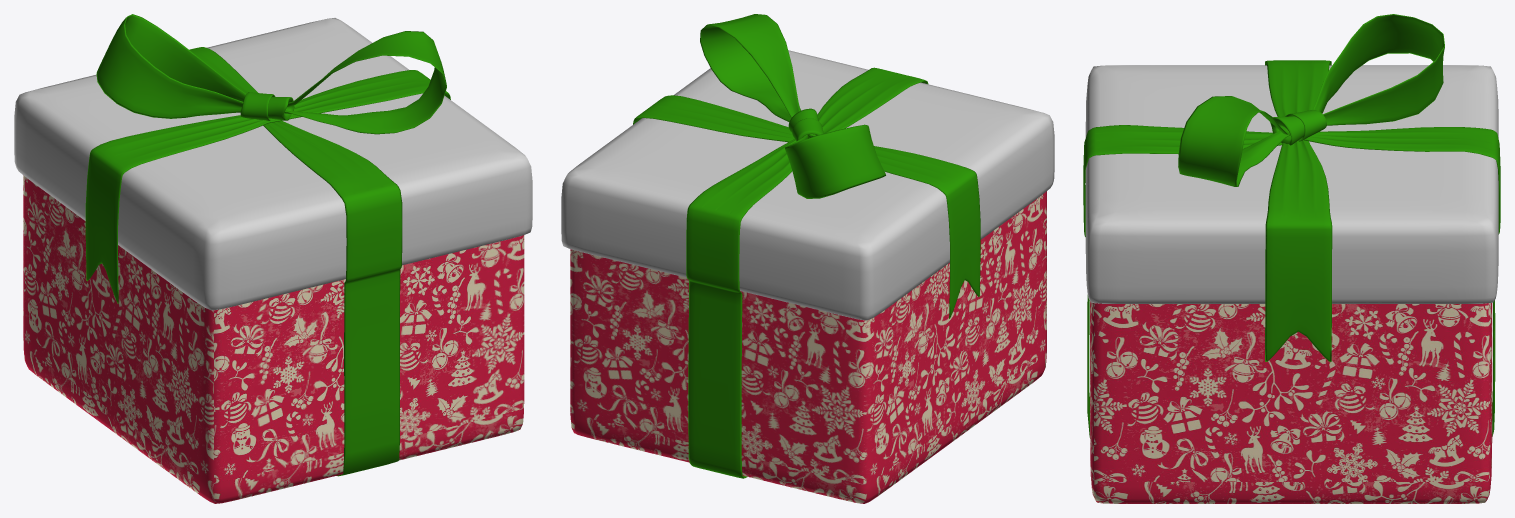
Rendered from Gift1.glb.
3 views of the same model, side by side, from view 1: azimuth 30°, elevation 25°; view 2: azimuth 150°, elevation 25°; view 3: azimuth 270°, elevation 25° (orthographic). The views are drawn at different scales.
Parts seen in each view (by area): view 1: Box001, Box002, Plane001, b003_01 - Default_0, Line002, Line003, Line001; view 2: Box001, Box002, Plane001, b003_01 - Default_0, Line003, Line002; view 3: Box001, Box002, b003_01 - Default_0, Plane001, Line002, Line003, Line001, Object001_01 - Default_0.
Boxes of the visible parts, x1,y1,x2,y2 form: Box001: [23, 175, 524, 503]; Box002: [14, 18, 532, 310]; Plane001: [189, 47, 402, 476]; b003_01 - Default_0: [85, 70, 450, 303]; Line002: [96, 14, 246, 118]; Line003: [284, 31, 446, 134]; Line001: [240, 92, 275, 120]; Box001: [570, 191, 1046, 503]; Box002: [561, 50, 1054, 320]; Plane001: [686, 67, 928, 478]; b003_01 - Default_0: [633, 95, 980, 318]; Line003: [700, 14, 800, 121]; Line002: [785, 124, 885, 198]; Box001: [1090, 301, 1492, 503]; Box002: [1085, 65, 1498, 303]; b003_01 - Default_0: [1265, 60, 1332, 361]; Plane001: [1083, 125, 1500, 437]; Line002: [1312, 14, 1444, 125]; Line003: [1178, 96, 1290, 186]; Line001: [1285, 109, 1326, 141]; Object001_01 - Default_0: [1270, 116, 1304, 145].
Bounding box in the file's own units: 3.09 × 3.16 × 3.2.
3 materials, 1 textured.
